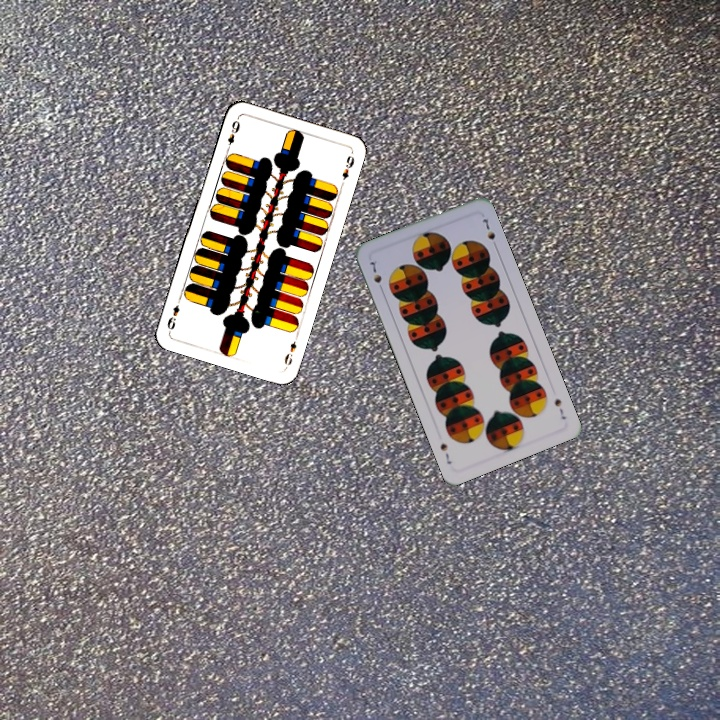E9: (222, 115, 243, 154), (280, 331, 301, 370)
S7: (366, 257, 386, 295), (550, 395, 569, 422)
